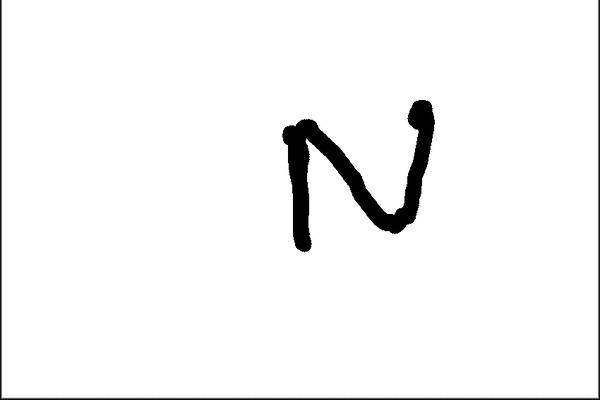N: (271, 93, 440, 258)
